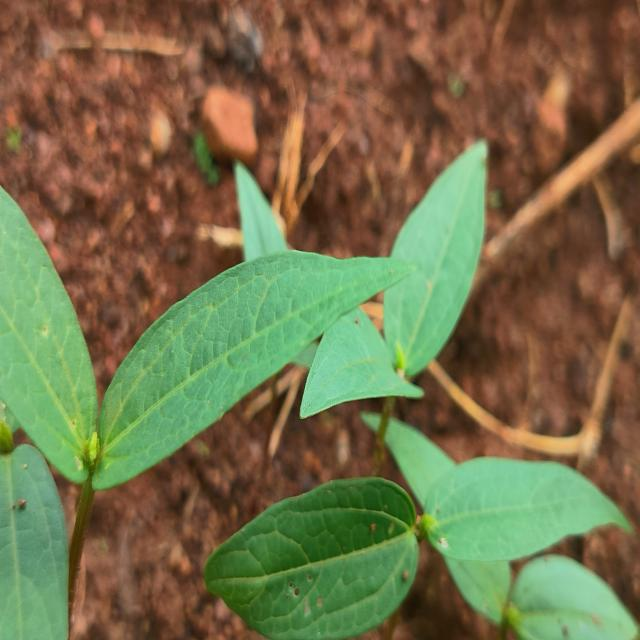Black gram_healthy: (98, 246, 418, 492), (203, 476, 418, 640), (360, 408, 511, 627), (381, 136, 486, 394), (424, 453, 634, 566)
